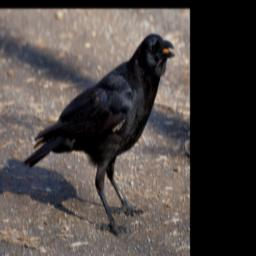Crow: (23, 31, 175, 237)
